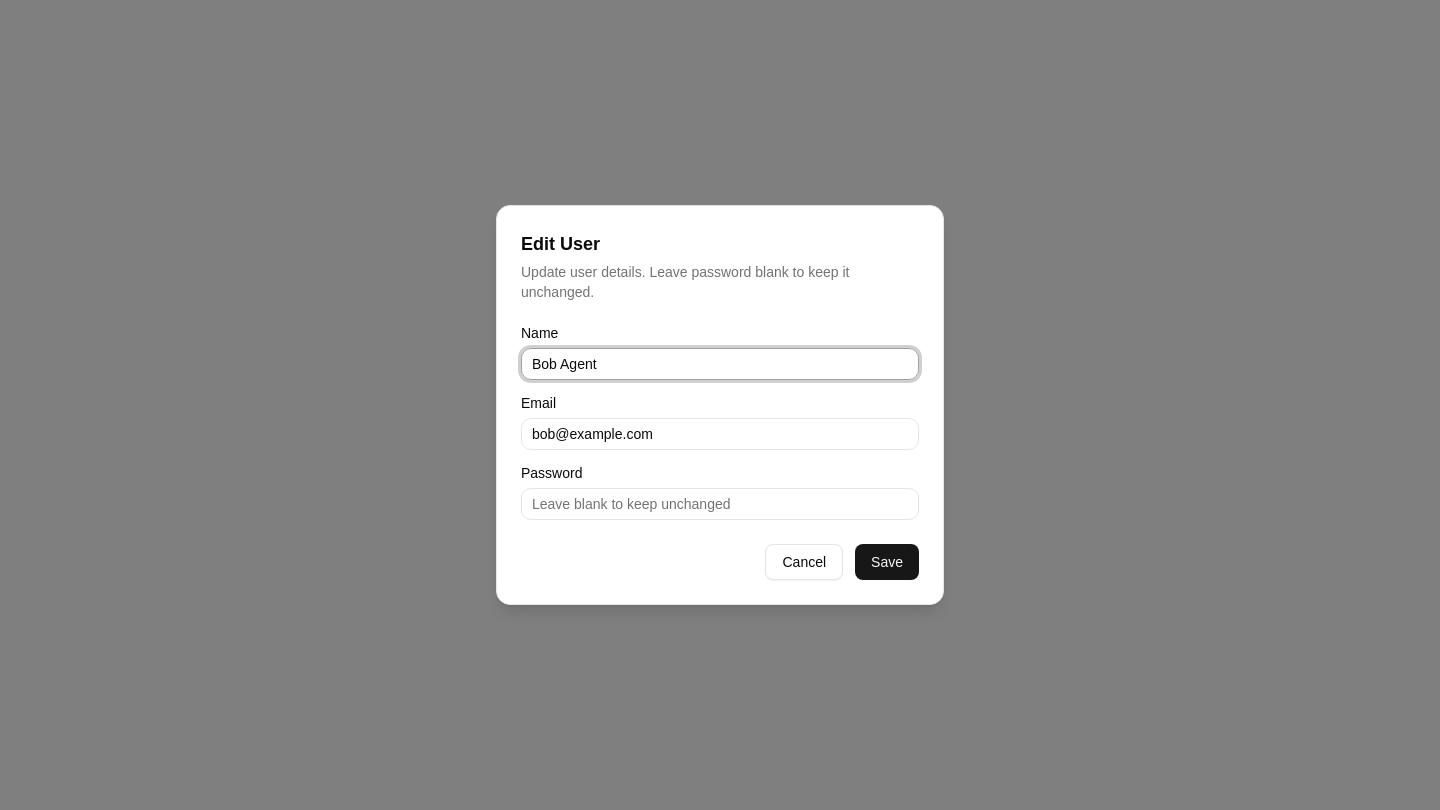
Scenario: UserFormDialog — edit mode › validation errors › shows error when name is cleared and submitted
The image size is (1440, 810).
Step 1. Clear the field labelled "Name" → (720, 364), box x1=521 y1=348 x2=919 y2=380
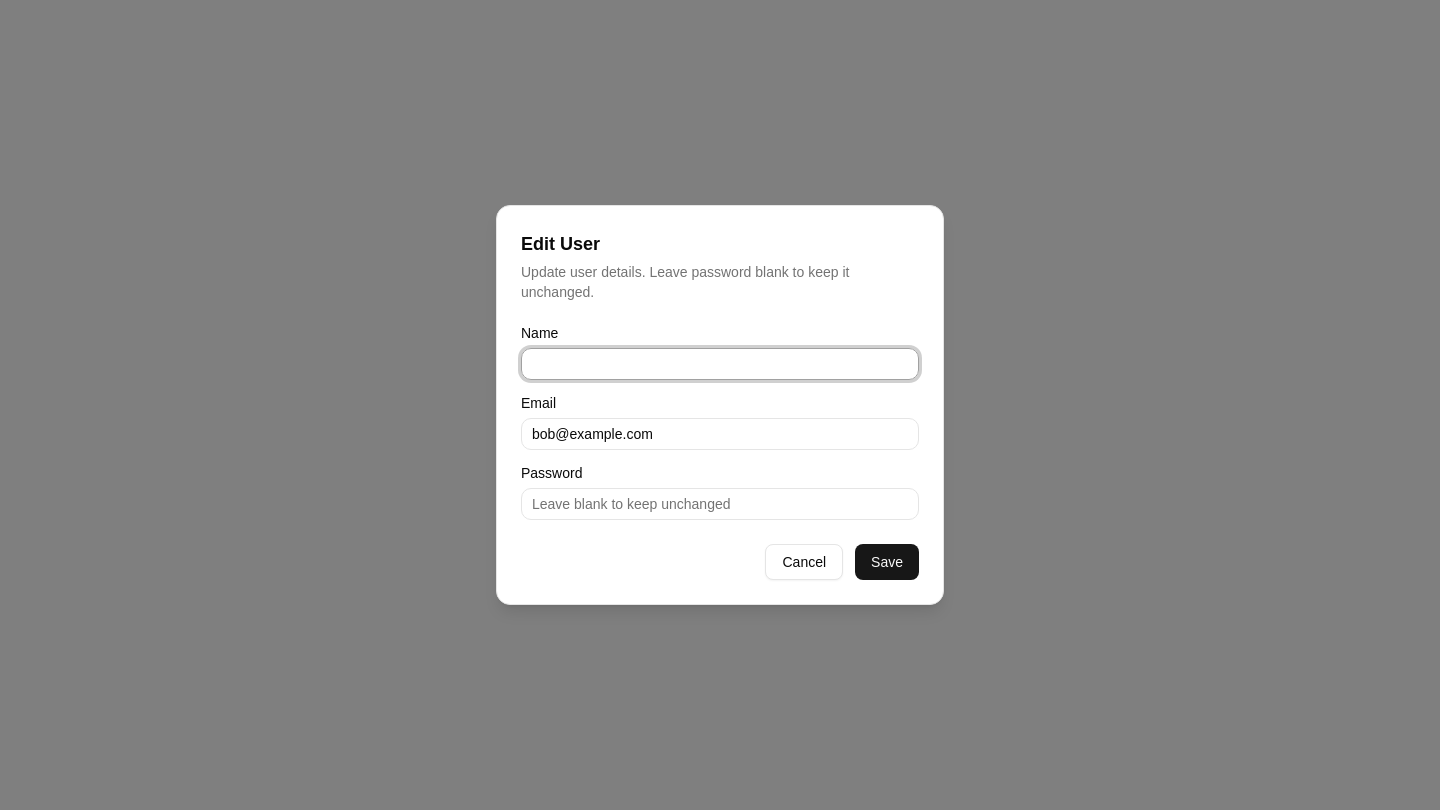
Step 2. Click the button "Save" → (887, 562), box x1=855 y1=544 x2=919 y2=580
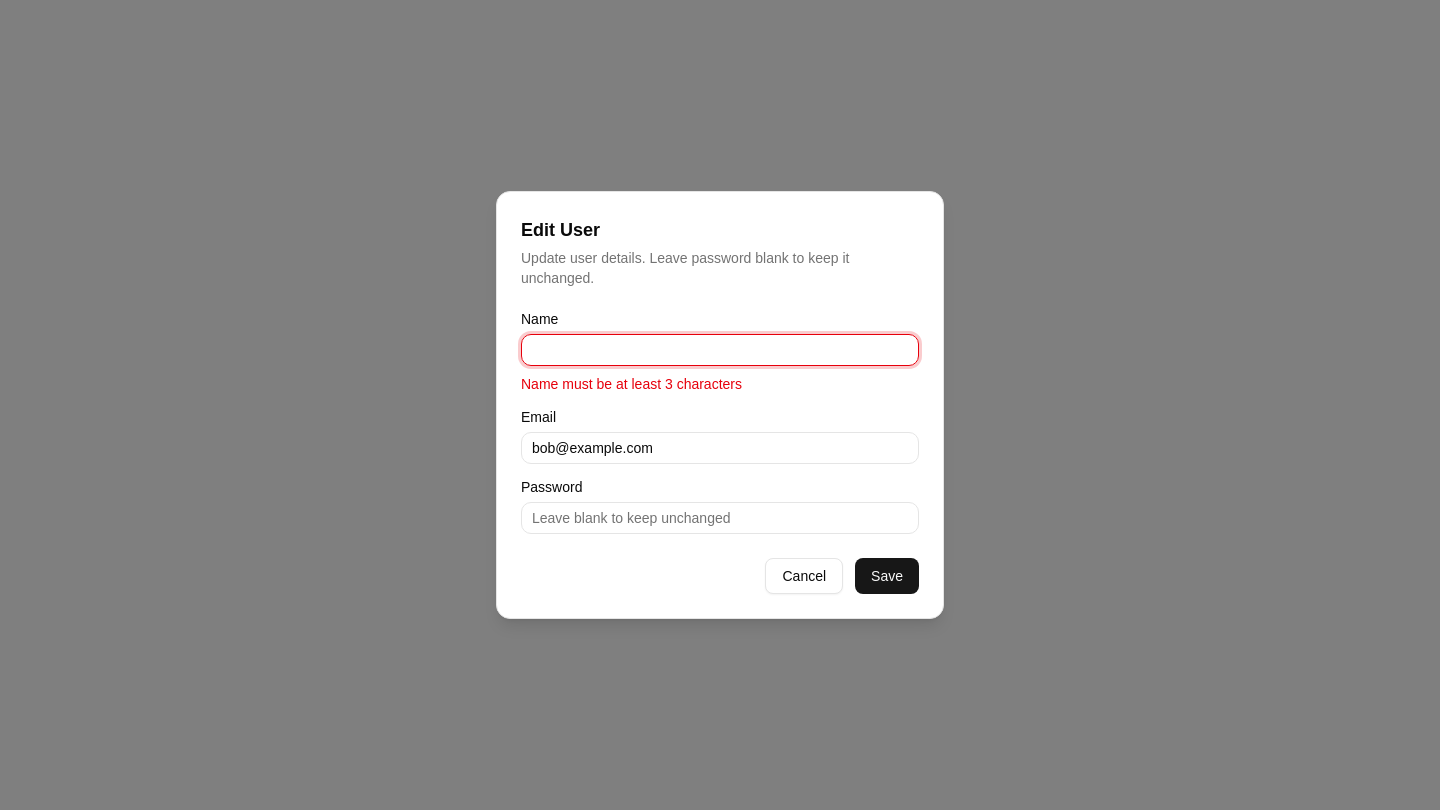
Result: the text "Name must be at least 3 characters" is shown at x1=521 y1=376 x2=742 y2=392
